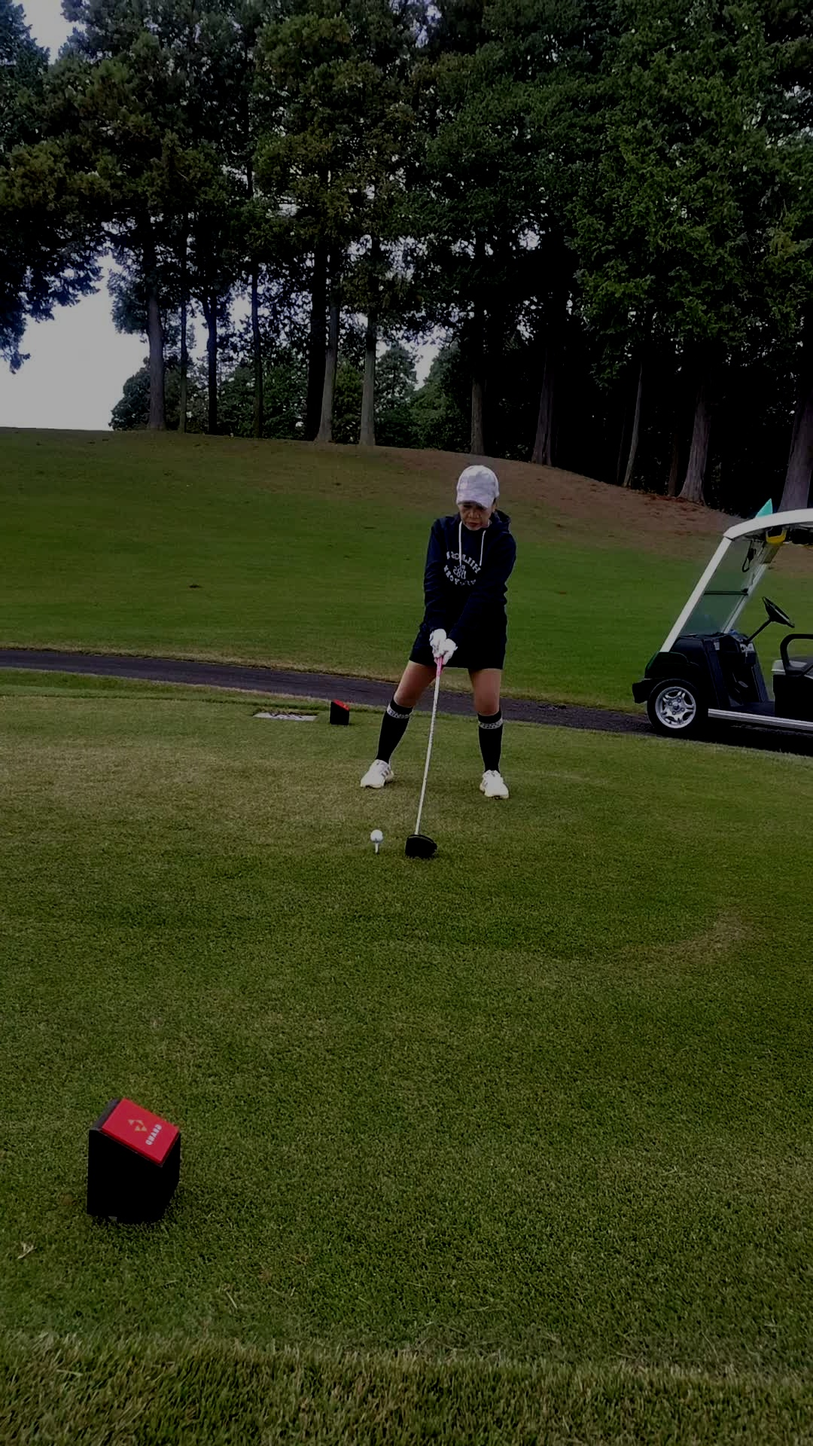clubhead: (318, 810, 541, 918)
